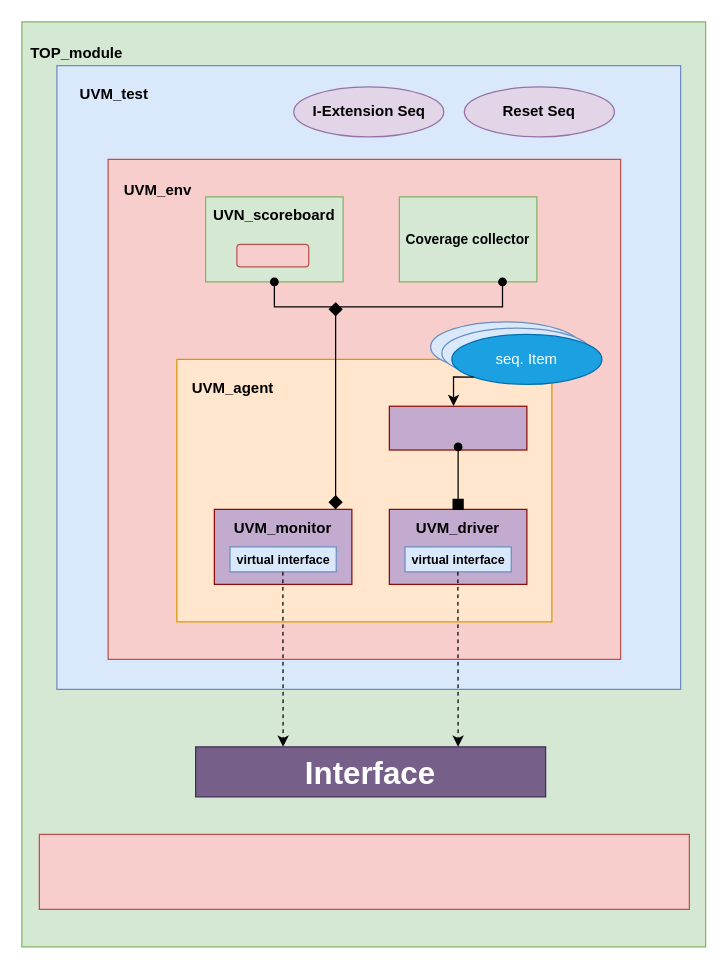
This 728x969 diagram has some shape labels left out. Each missing label, with the centre of its shape:
DUT (RISC-V): [363,871]
py-DPI: [272,255]
UVM_sequencer: [457,427]
